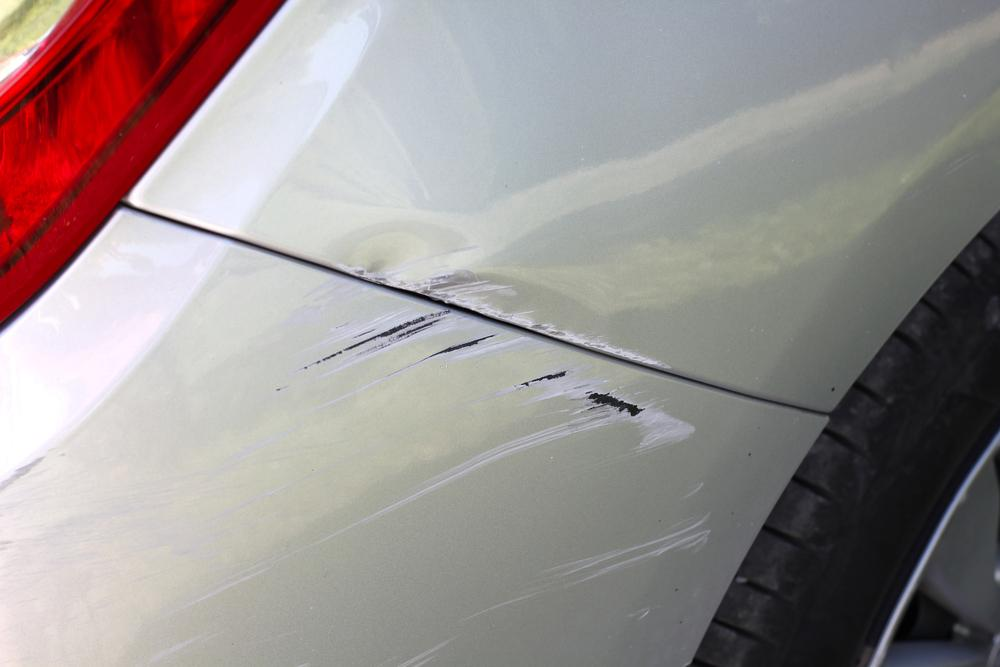dent: (338, 232, 539, 324)
scratch: (0, 280, 714, 667), (534, 323, 679, 376)
